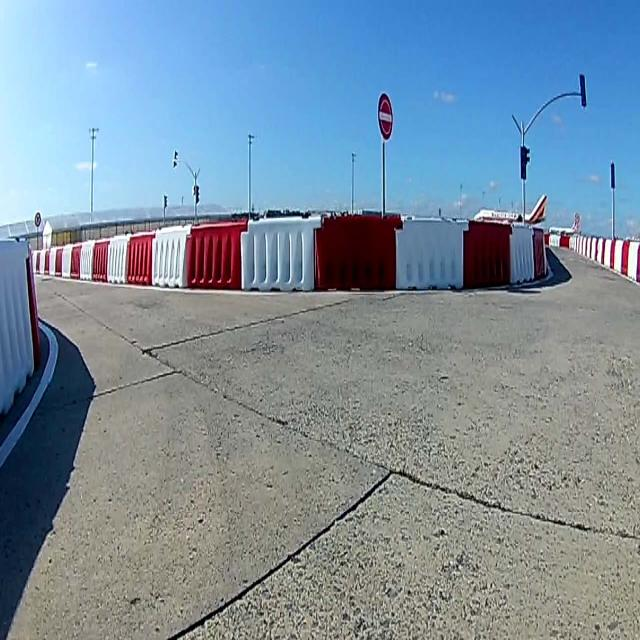girisyok: (376, 92, 394, 140)
